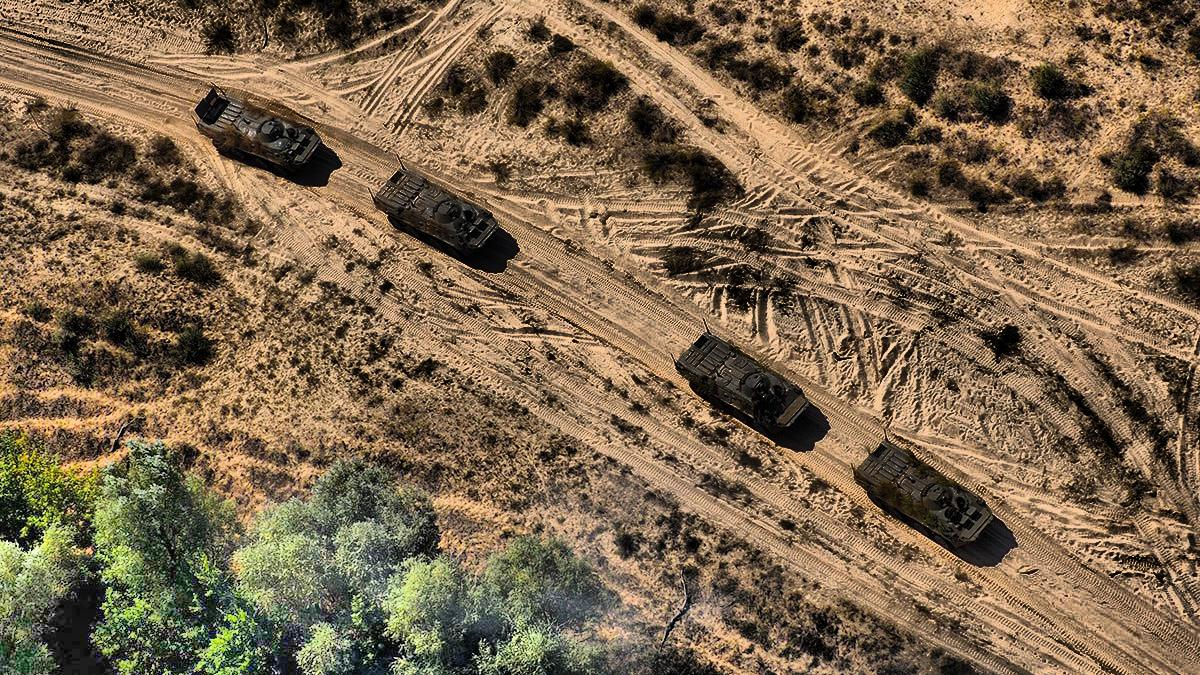military-vehicle: (856, 438, 993, 546), (677, 332, 810, 433), (193, 86, 319, 178), (372, 170, 500, 258)
